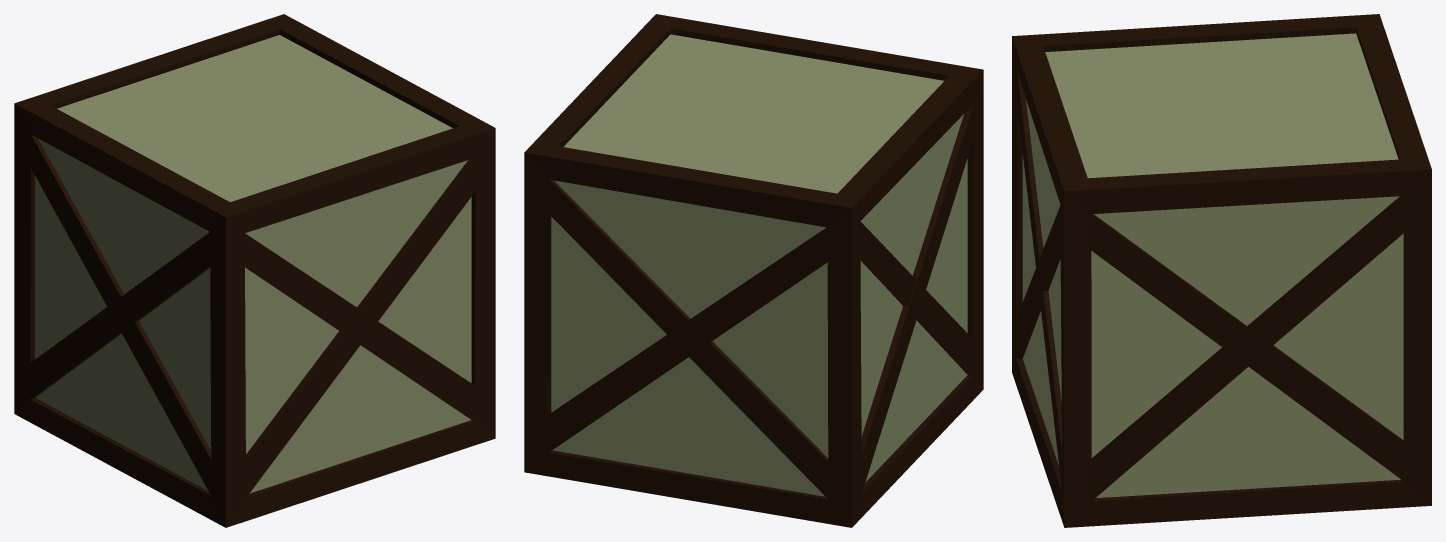
The model's file is Crate.FBX.
The picture shows the model from 3 angles, left to right: view 1: azimuth 30°, elevation 25°; view 2: azimuth 150°, elevation 25°; view 3: azimuth 270°, elevation 25°; orthographic projection. The views are drawn at different scales.
Visible parts, largest first — view 1: Box033; view 2: Box033; view 3: Box033.
Part boxes in pixels (left/top/right/bottom): Box033: left=14, top=14, right=495, bottom=527; Box033: left=524, top=14, right=983, bottom=527; Box033: left=1012, top=14, right=1431, bottom=527.
Size of the model in its own units: 371 by 328 by 371.
